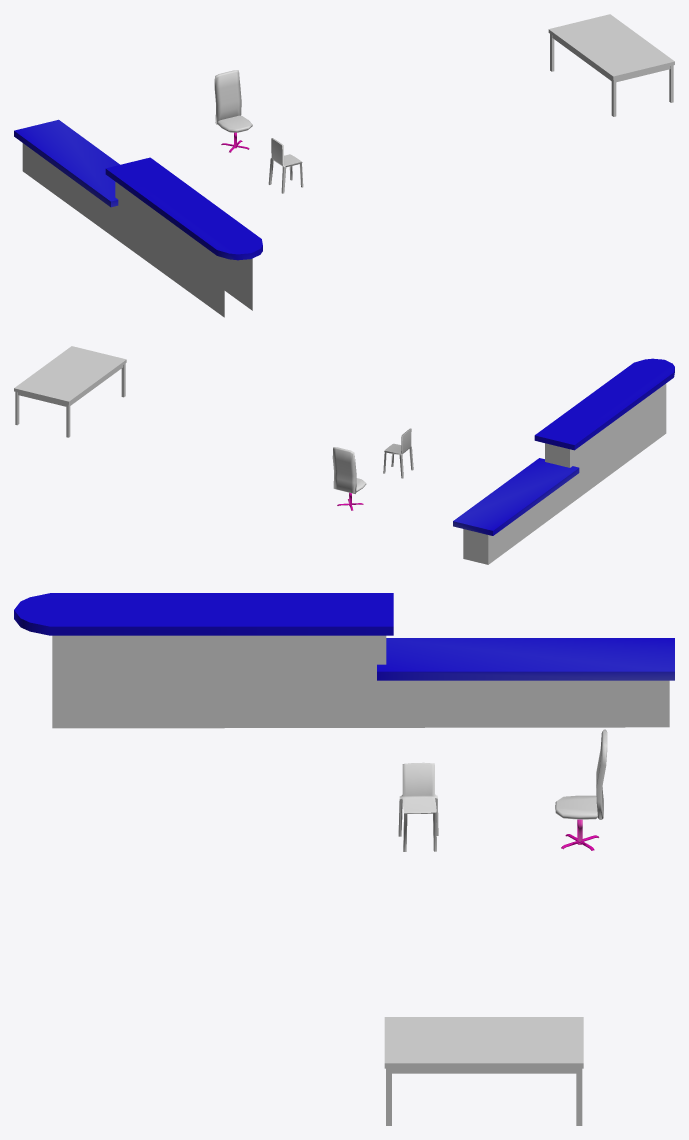
The model's file is working_props.fbx.
3 renders of one model, top to bottom at view 1: azimuth 30°, elevation 25°; view 2: azimuth 150°, elevation 25°; view 3: azimuth 270°, elevation 25°, orthographic. The views are drawn at different scales.
Parts seen in each view (by area): view 1: long-desk, table, desk_chair, table_feets, Chair_work; view 2: long-desk, table, desk_chair, table_feets, Chair_work; view 3: long-desk, table, Chair_work, table_feets, desk_chair.
Part boxes in pixels (bbox=[...]): long-desk: bbox=[14, 119, 262, 317]; table: bbox=[548, 14, 674, 79]; desk_chair: bbox=[214, 70, 252, 132]; table_feets: bbox=[550, 34, 673, 116]; Chair_work: bbox=[268, 138, 303, 193]; long-desk: bbox=[453, 358, 674, 564]; table: bbox=[14, 346, 126, 404]; desk_chair: bbox=[332, 447, 366, 493]; table_feets: bbox=[15, 363, 125, 437]; Chair_work: bbox=[383, 428, 413, 478]; long-desk: bbox=[14, 593, 674, 728]; table: bbox=[384, 1017, 583, 1068]; Chair_work: bbox=[398, 762, 438, 851]; table_feets: bbox=[386, 1068, 582, 1125]; desk_chair: bbox=[555, 729, 607, 819].
Size of the model in its own units: 1011 by 120 by 664.
